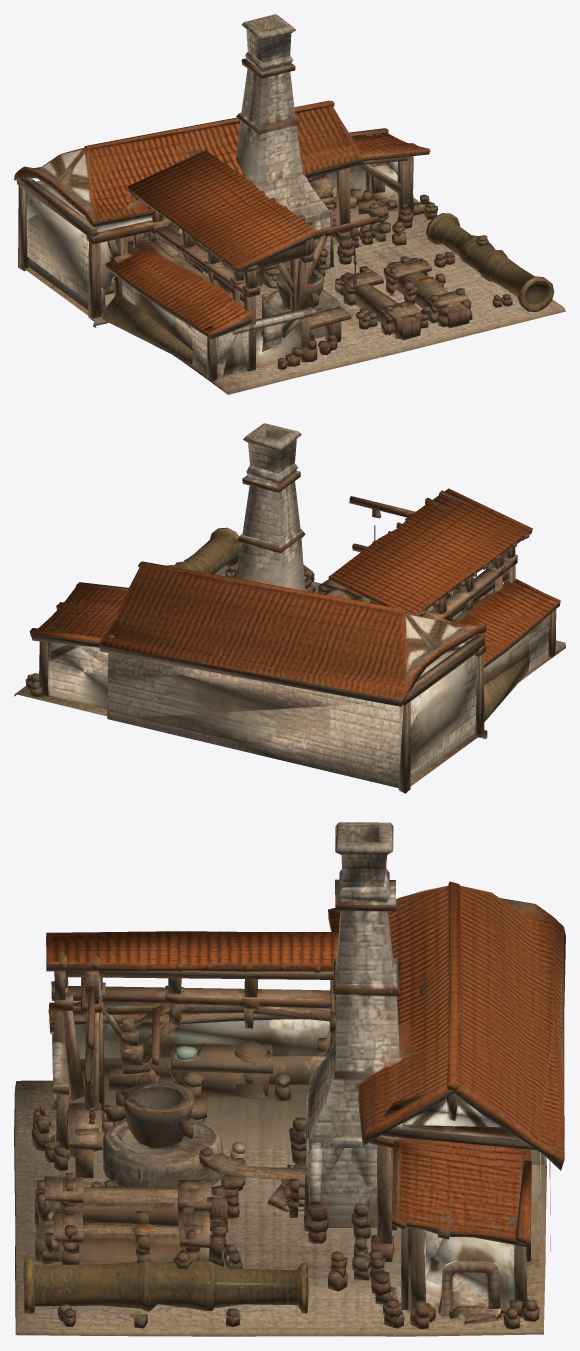
Rendered from Meshy_AI_model.glb.
3 views of the same model, one above another, from view 1: azimuth 30°, elevation 25°; view 2: azimuth 150°, elevation 25°; view 3: azimuth 270°, elevation 25° (orthographic). The views are drawn at different scales.
Size of the model in its own units: 1 by 0.6455 by 0.8658.
1 material, 1 textured.
